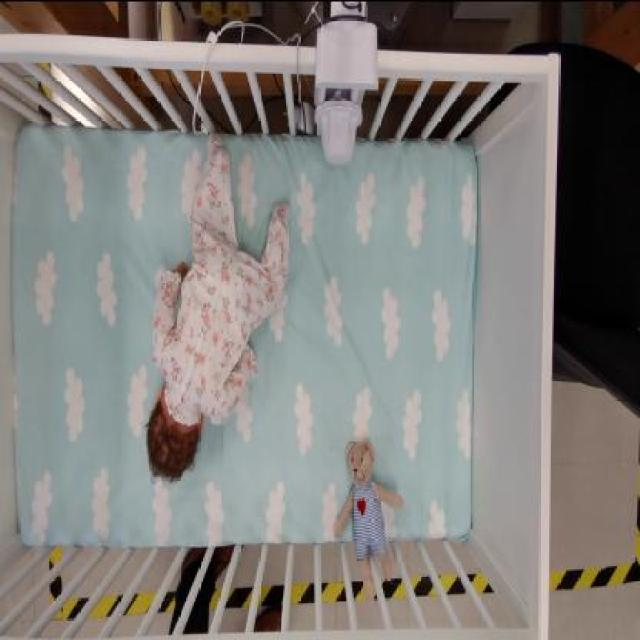baby: (146, 138, 292, 486)
